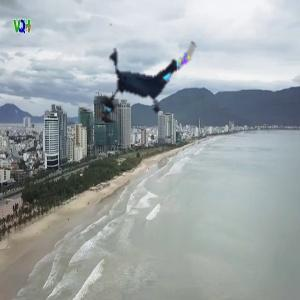drone: (99, 23, 200, 124)
